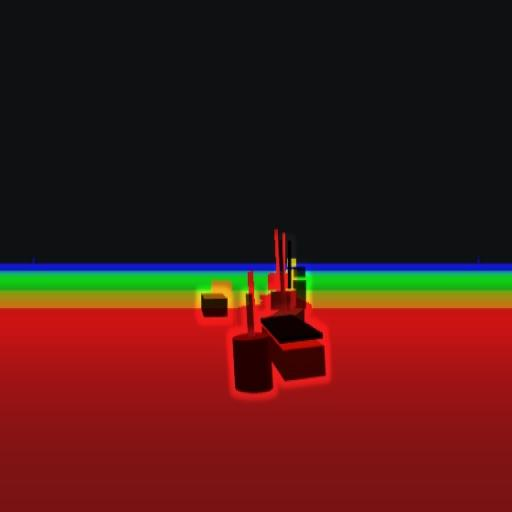floating_obstacle: (234, 289, 272, 393)
